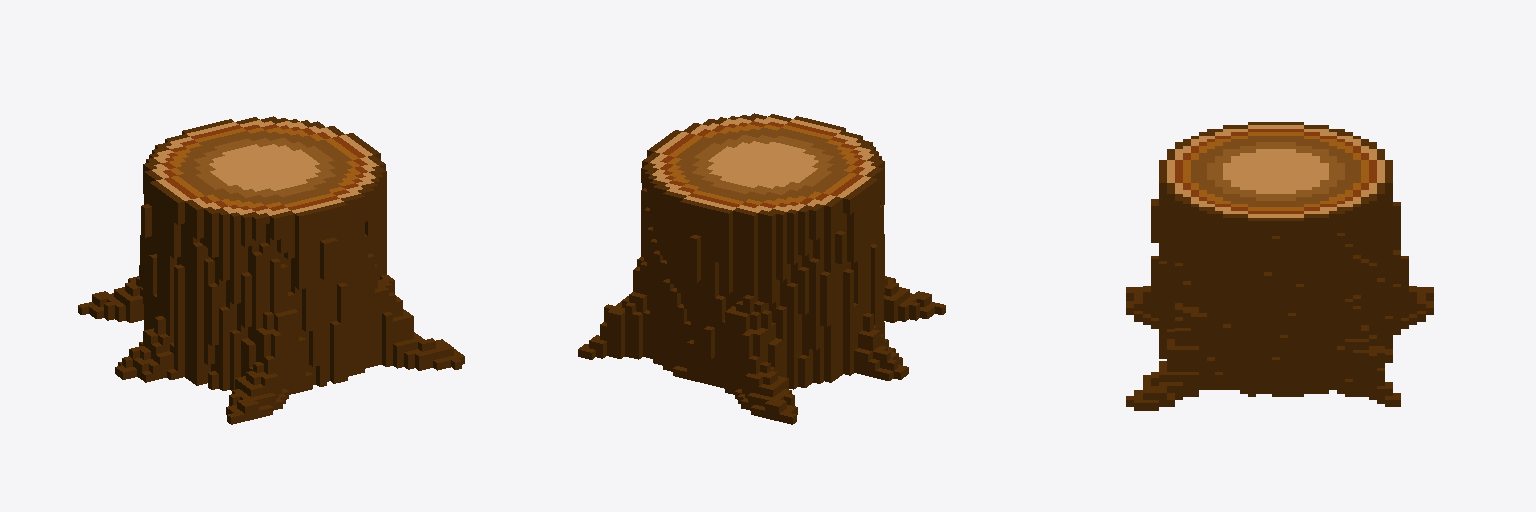
3 renders of one model, left to right at view 1: azimuth 30°, elevation 25°; view 2: azimuth 150°, elevation 25°; view 3: azimuth 270°, elevation 25°, orthographic.
Bounding box in the file's own units: 39 × 24 × 38.
Materials: 1 (1 with a texture image).